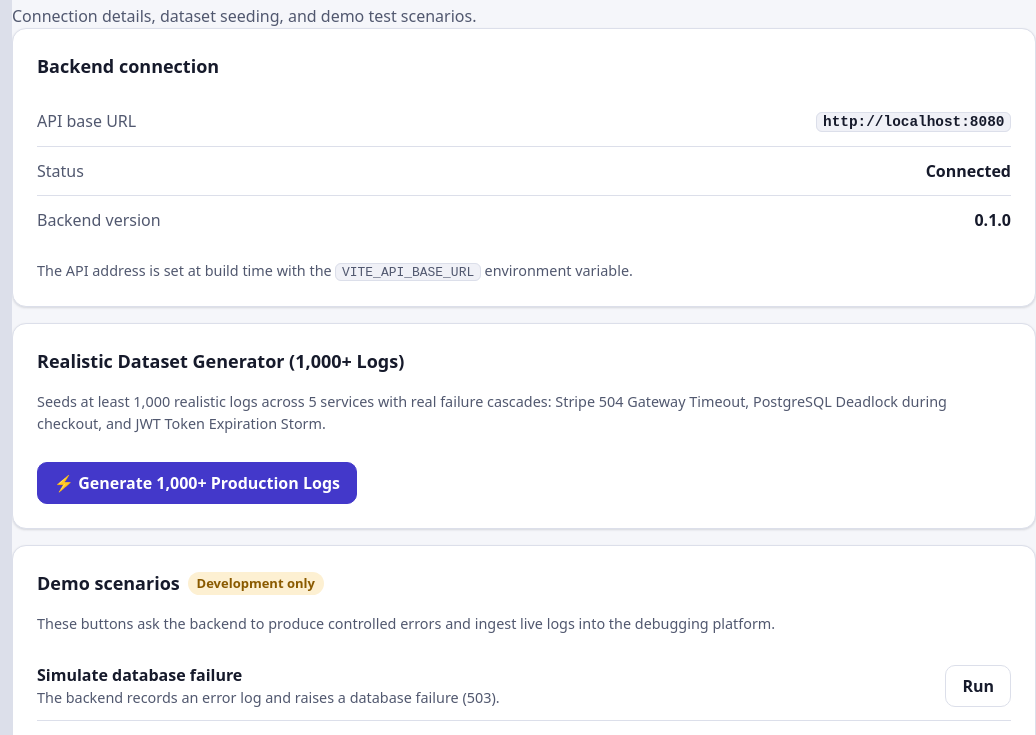
it: Settings page › shows a clear message when the backend cannot be reached
Click the button with aria-label "Run: Simulate database failure".
click(978, 686)  # box x1=945 y1=665 x2=1011 y2=707
(page scrolled)
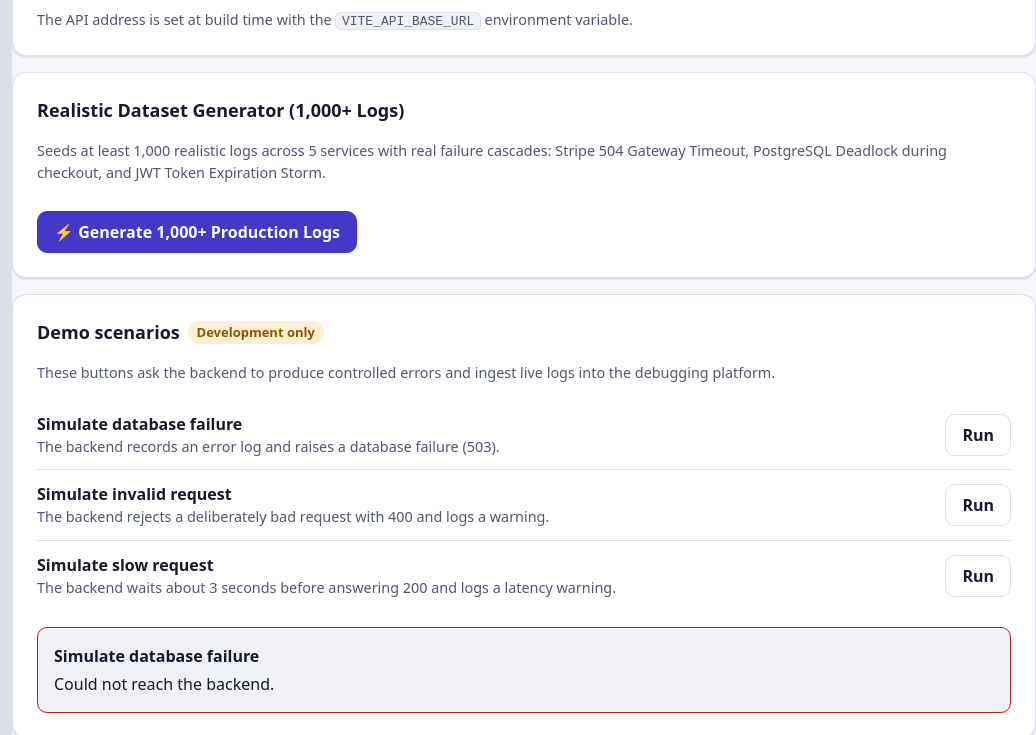
Now the text "Could not reach the backend." is shown, box x1=54 y1=673 x2=274 y2=695
